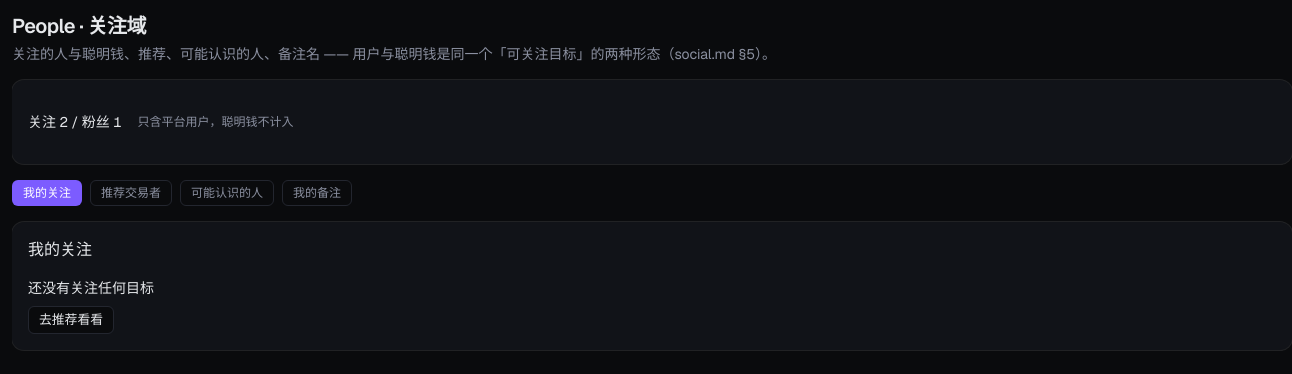
PeopleView 可能认识的人（§5） › identifier 缩写 + via 文案；Follow 成功后行移除
Click the button "可能认识的人" at (227, 193), box [180,180,274,206]
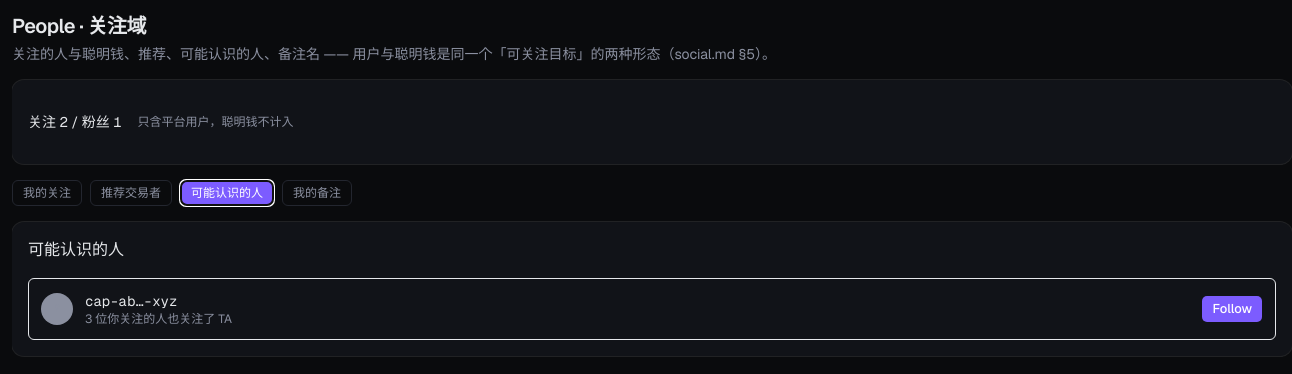
Now the text "cap-ab…-xyz" is shown, box [85,292,177,310]
Now the text "3 位你关注的人也关注了 TA" is shown, box [85,311,232,327]
Click the button "Follow" at (1232, 309), box [1202,295,1263,323]
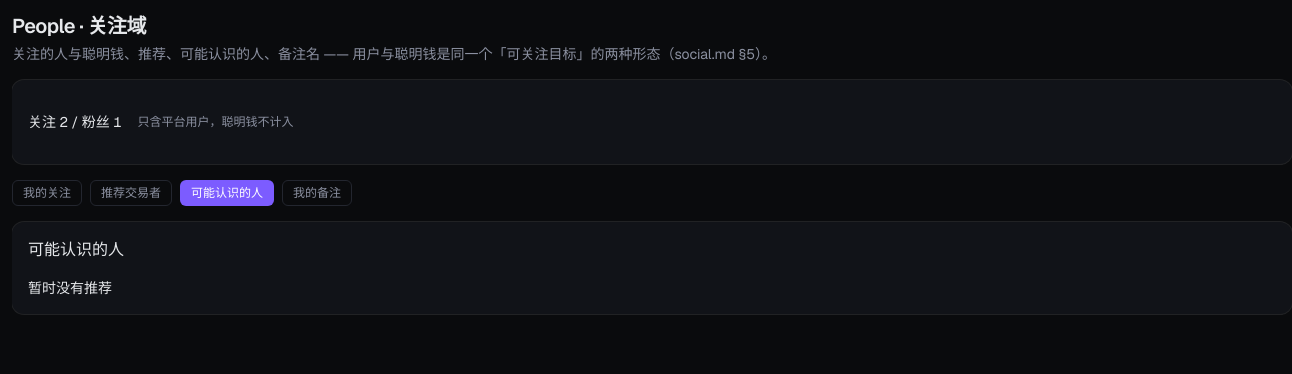
Now the text "cap-ab…-xyz" is gone
